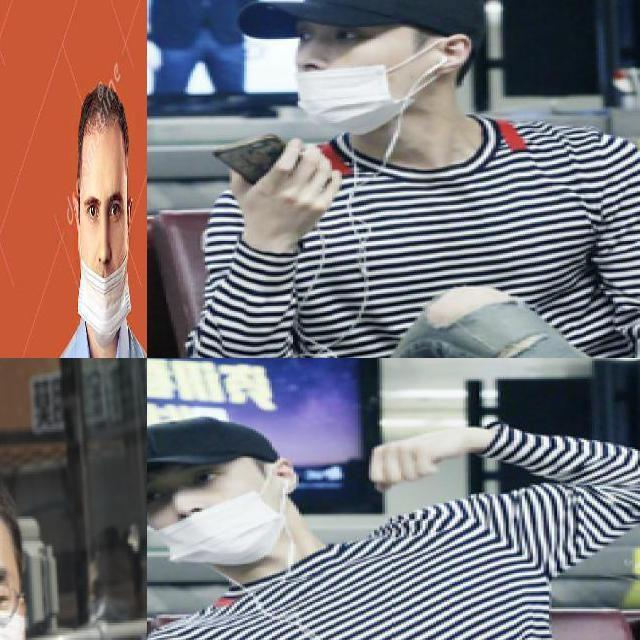hairnet: (290, 46, 407, 130), (161, 493, 276, 563), (77, 237, 126, 329)
